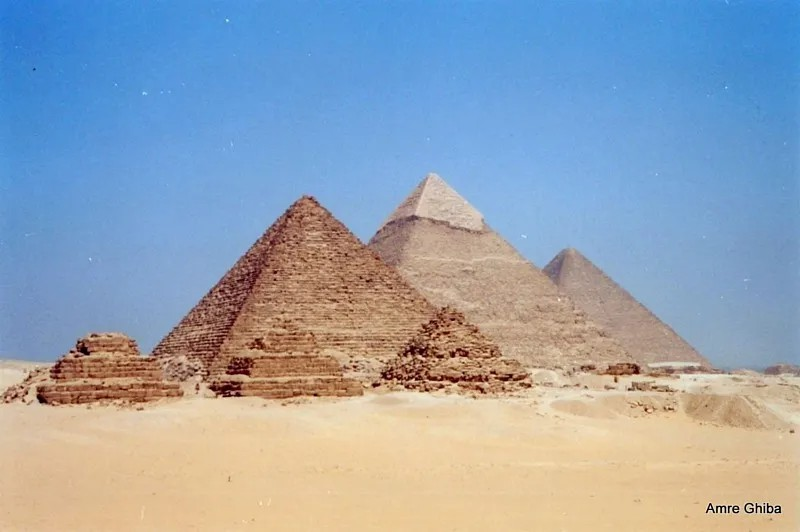Pyramid: (367, 173, 640, 370), (149, 197, 440, 364), (541, 248, 712, 367), (208, 319, 363, 397), (379, 307, 532, 386), (36, 334, 182, 403)
